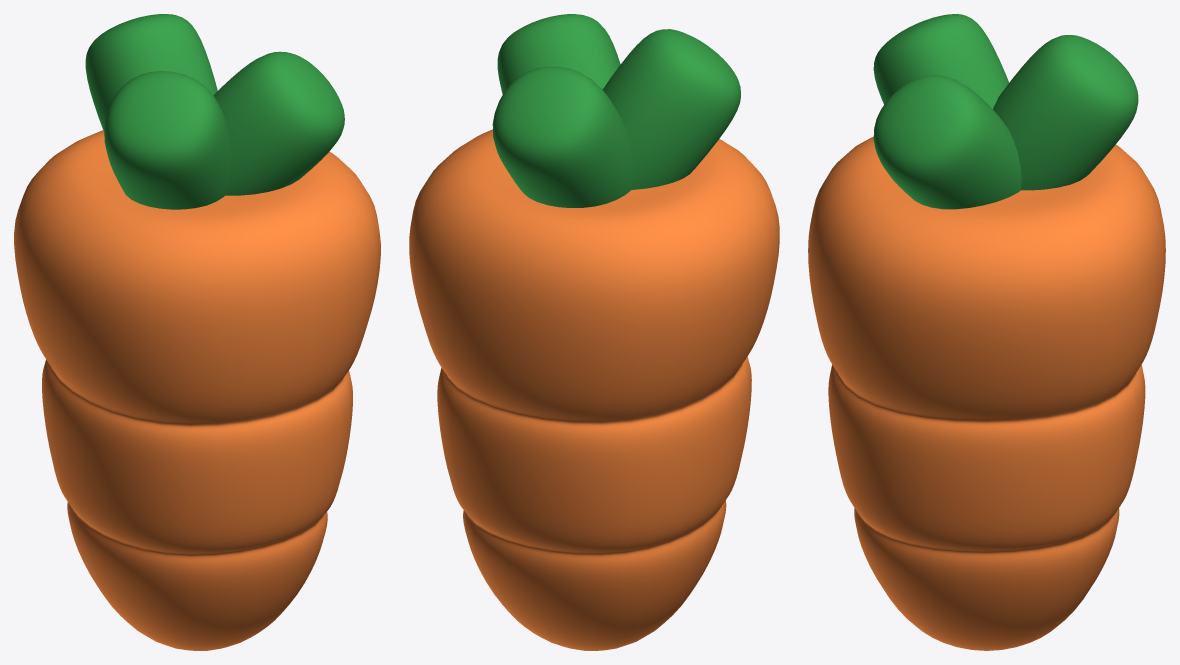
The model's file is carrot.glb.
3 views of the same model, side by side, from view 1: azimuth 30°, elevation 25°; view 2: azimuth 150°, elevation 25°; view 3: azimuth 270°, elevation 25° (orthographic).
Parts seen in each view (by area): view 1: 큐브, 큐브.002, 큐브.003, 큐브.001; view 2: 큐브, 큐브.001, 큐브.002, 큐브.003; view 3: 큐브, 큐브.001, 큐브.003, 큐브.002.
Part boxes in pixels (x1=…): 큐브: x1=14, y1=130, x2=380, y2=650; 큐브.002: x1=104, y1=71, x2=231, y2=209; 큐브.003: x1=213, y1=51, x2=344, y2=195; 큐브.001: x1=85, y1=14, x2=217, y2=131; 큐브: x1=409, y1=129, x2=779, y2=650; 큐브.001: x1=492, y1=66, x2=632, y2=207; 큐브.002: x1=602, y1=29, x2=740, y2=189; 큐브.003: x1=497, y1=14, x2=620, y2=94; 큐브: x1=808, y1=136, x2=1165, y2=650; 큐브.001: x1=993, y1=35, x2=1138, y2=190; 큐브.003: x1=873, y1=75, x2=1021, y2=209; 큐브.002: x1=873, y1=14, x2=1008, y2=108.
Size of the model in its own units: 1.41 by 2.56 by 1.39.
